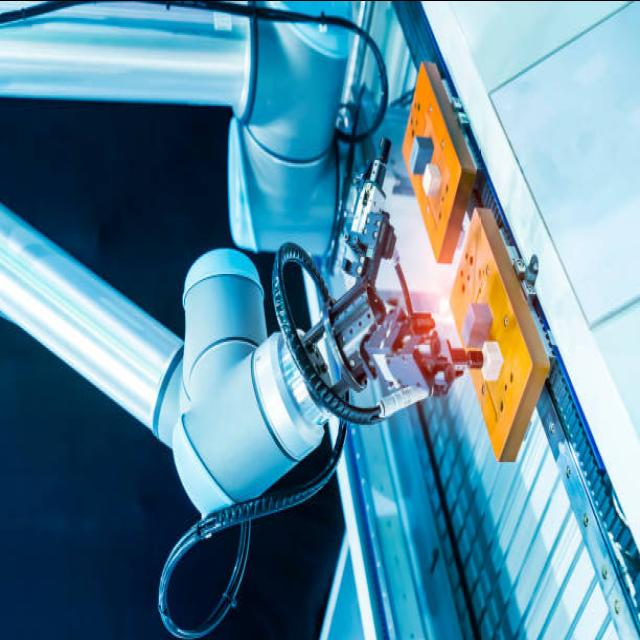Robotic-arm: (0, 0, 392, 526)
